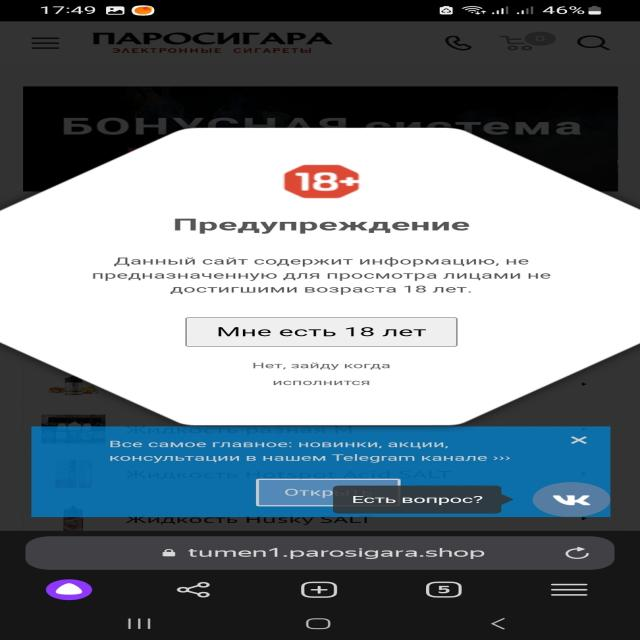button: (220, 348, 419, 400), (186, 317, 458, 346), (256, 479, 400, 506), (566, 434, 590, 446)
site: (0, 127, 640, 426), (29, 427, 610, 518)
